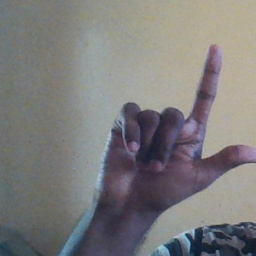L: (100, 42, 256, 207)
